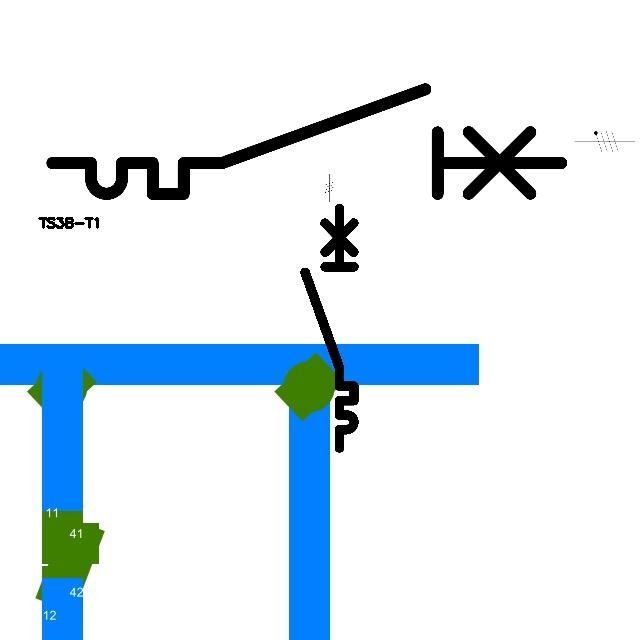interruptor_termomagnetico: (39, 76, 574, 207), (299, 202, 360, 453)
